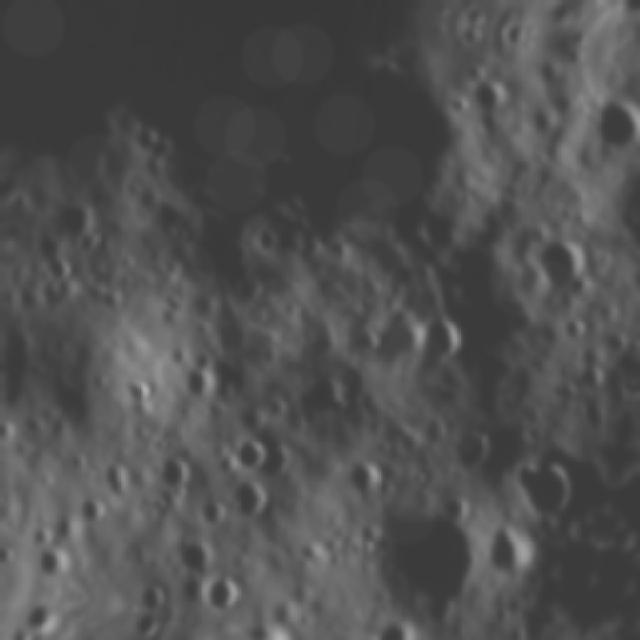crater: (351, 483, 498, 632), (493, 446, 593, 528), (524, 222, 604, 306), (470, 516, 544, 592), (437, 414, 503, 486), (412, 304, 474, 378), (580, 91, 640, 163), (222, 474, 281, 532), (142, 444, 201, 502), (164, 527, 222, 579), (198, 568, 250, 622), (176, 360, 227, 414), (219, 428, 273, 478), (462, 74, 509, 126), (22, 536, 69, 586), (128, 572, 178, 616), (339, 319, 386, 363), (71, 493, 118, 533), (187, 488, 231, 530), (118, 371, 159, 414)
